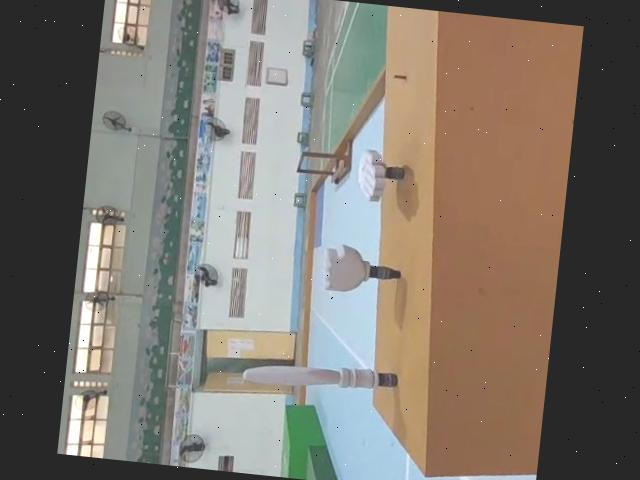Fist: (316, 240, 407, 303)
Hand: (352, 148, 406, 208)
Sph: (242, 355, 404, 404)
